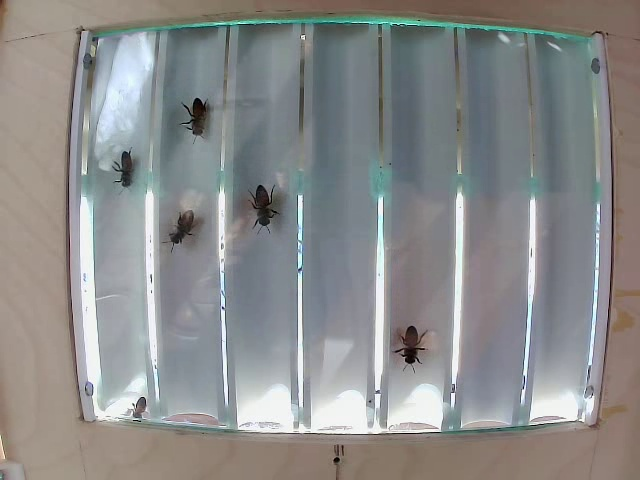bee: (248, 177, 284, 228), (174, 96, 214, 138), (101, 146, 138, 187), (160, 206, 194, 250), (395, 330, 426, 374)
